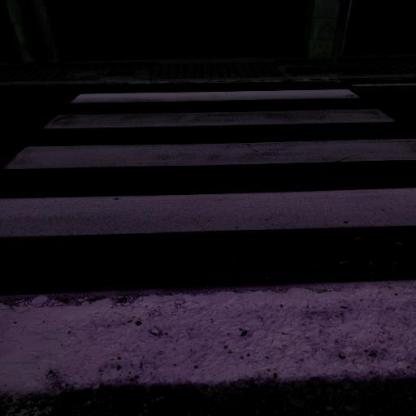crosswalk: (25, 87, 407, 133)
